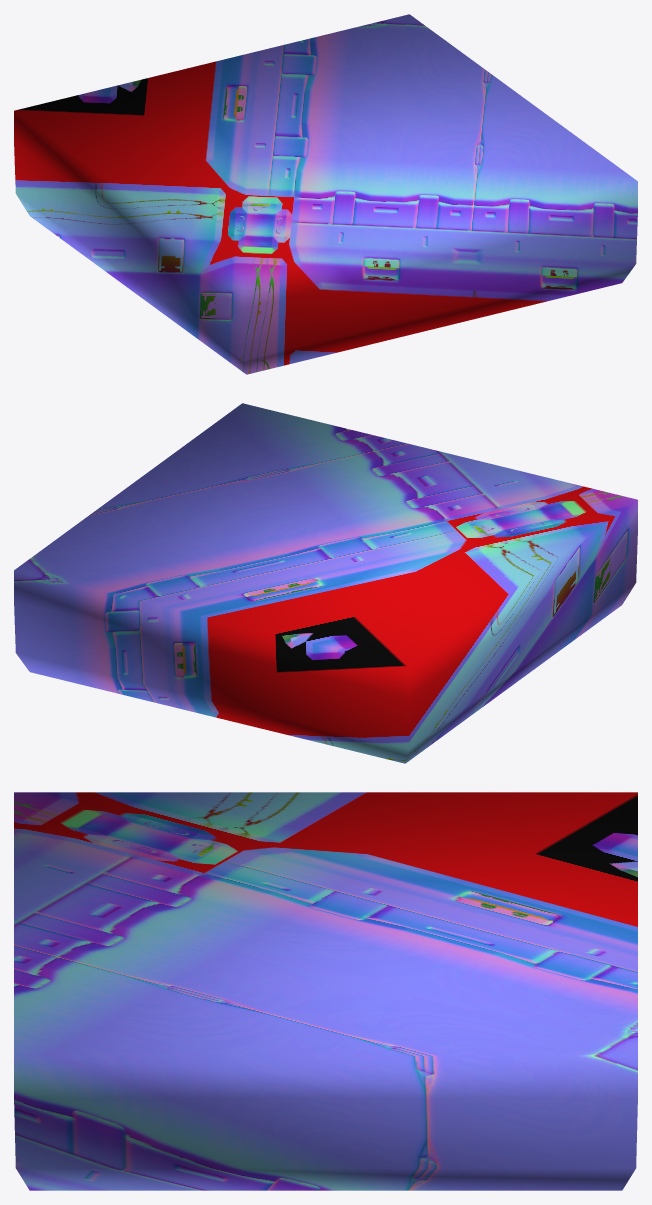
File: floor_module_pbox.obj
3 renders of one model, top to bottom at view 1: azimuth 30°, elevation 25°; view 2: azimuth 150°, elevation 25°; view 3: azimuth 270°, elevation 25°, orthographic. The views are drawn at different scales.
Parts seen in each view (by area): view 1: Cube.011_Cube.017; view 2: Cube.011_Cube.017; view 3: Cube.011_Cube.017.
Boxes of the visible parts, x1,y1,x2,y2 form: Cube.011_Cube.017: (14, 14, 637, 374); Cube.011_Cube.017: (14, 403, 637, 763); Cube.011_Cube.017: (14, 792, 637, 1190).
Size of the model in its own units: 8 by 2 by 8.
